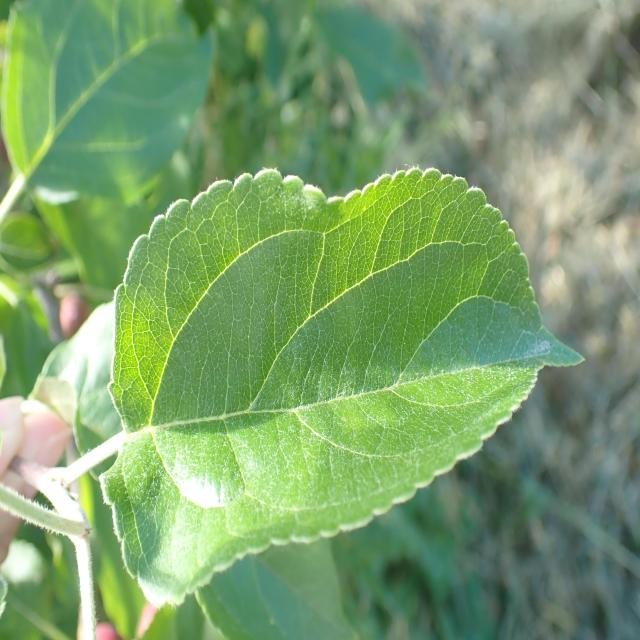healthy: (99, 163, 588, 612), (1, 0, 215, 209)
